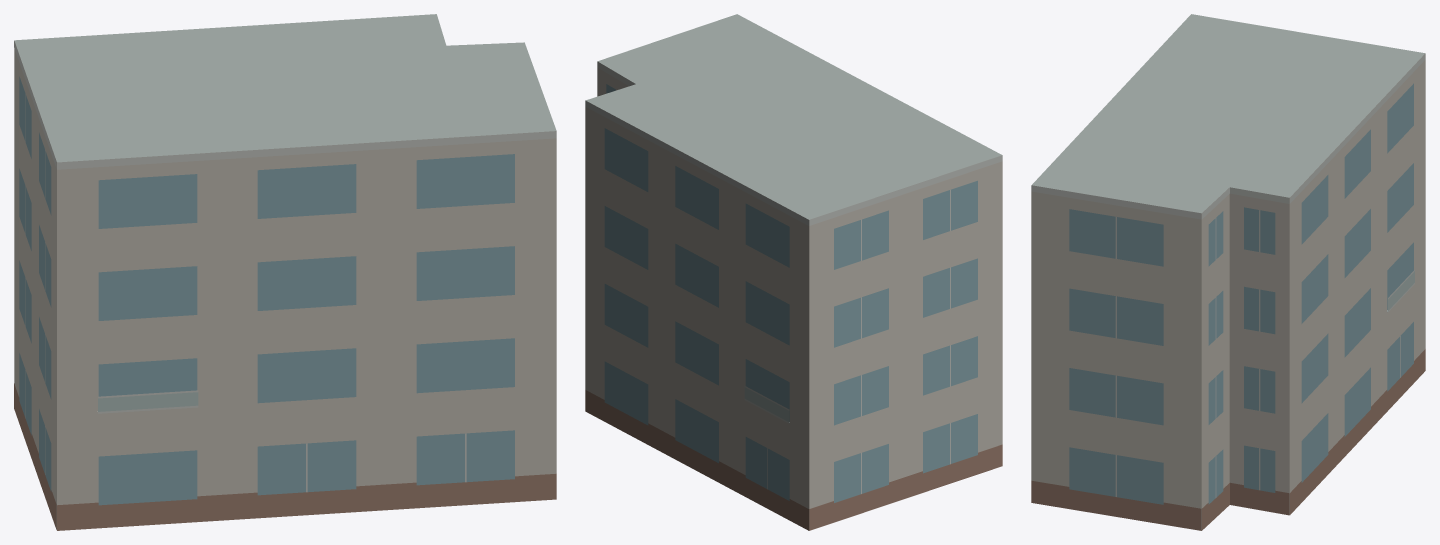
The model's file is survey-upis-32522251.glb.
3 renders of one model, left to right at view 1: azimuth 30°, elevation 25°; view 2: azimuth 150°, elevation 25°; view 3: azimuth 270°, elevation 25°, orthographic. The views are drawn at different scales.
Visible parts, largest first — view 1: survey-upis-32522251.tmp; view 2: survey-upis-32522251.tmp; view 3: survey-upis-32522251.tmp.
Boxes of the visible parts, x1,y1,x2,y2 form: survey-upis-32522251.tmp: [14, 14, 556, 530]; survey-upis-32522251.tmp: [585, 14, 1002, 530]; survey-upis-32522251.tmp: [1031, 14, 1425, 530].
Size of the model in its own units: 16.56 by 12.3 by 13.84.
